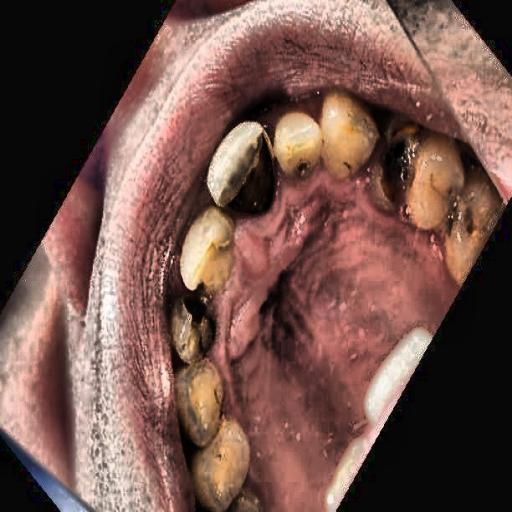Calculus: (183, 96, 504, 292), (155, 262, 238, 498)
